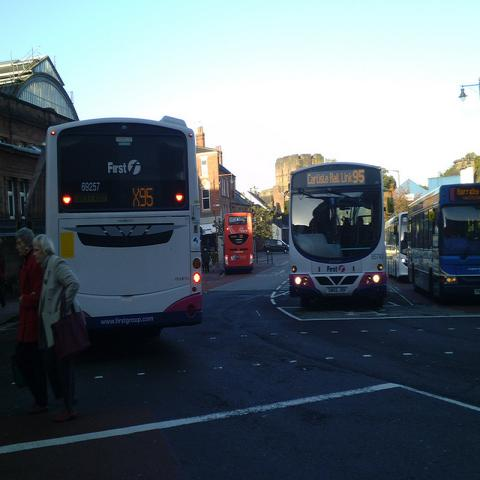bus: (24, 116, 203, 334), (289, 163, 387, 309), (403, 180, 479, 307), (223, 213, 253, 274), (384, 212, 408, 281)
car: (263, 238, 290, 254)
